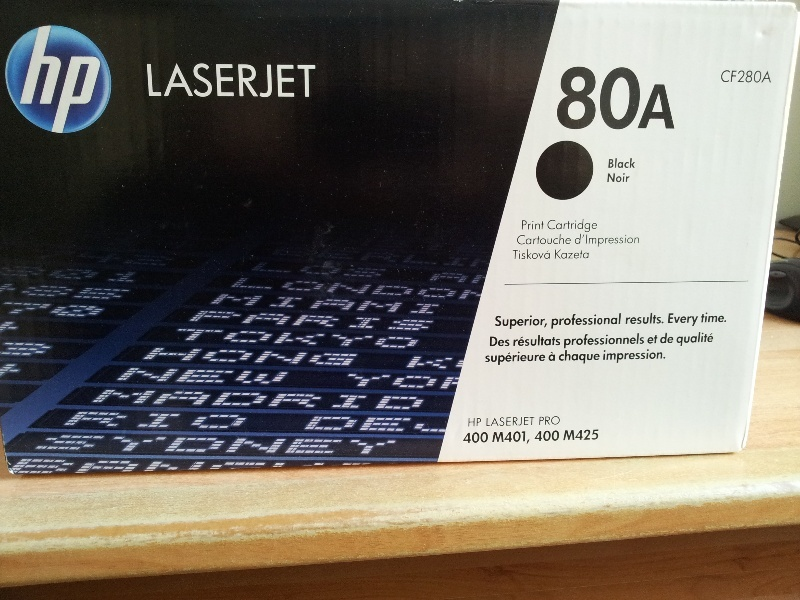text: (49, 25, 64, 135), (65, 25, 80, 135), (81, 25, 96, 135), (97, 25, 110, 135), (38, 25, 48, 135), (577, 65, 592, 130), (593, 65, 608, 130), (609, 65, 624, 130), (625, 65, 640, 130), (641, 65, 656, 130), (657, 65, 672, 130), (563, 65, 576, 130), (161, 63, 176, 98), (177, 63, 192, 98), (193, 63, 208, 98), (209, 63, 224, 98), (225, 63, 240, 98), (241, 63, 256, 98), (257, 63, 272, 98), (273, 63, 288, 98), (289, 63, 304, 98), (146, 63, 160, 98), (385, 432, 401, 462), (65, 432, 80, 462), (81, 432, 96, 462), (97, 432, 112, 462), (113, 432, 128, 462), (129, 432, 144, 462), (145, 432, 160, 462), (161, 432, 176, 462), (177, 432, 192, 462), (193, 432, 208, 462), (209, 432, 224, 462), (225, 432, 240, 462), (241, 432, 256, 462), (257, 432, 272, 462), (273, 432, 288, 462), (289, 432, 304, 462), (305, 432, 320, 462), (321, 432, 336, 462), (337, 432, 352, 462), (353, 432, 368, 462), (369, 432, 384, 462), (305, 63, 317, 98), (289, 242, 304, 269), (305, 242, 320, 269), (321, 242, 336, 269), (337, 242, 352, 269), (353, 242, 368, 269), (369, 242, 384, 269), (385, 242, 400, 269), (401, 242, 416, 269), (417, 242, 432, 269), (433, 242, 448, 269), (449, 242, 464, 269), (113, 388, 128, 415), (129, 388, 144, 415), (145, 388, 160, 415), (161, 388, 176, 415), (177, 388, 192, 415), (193, 388, 208, 415), (209, 388, 224, 415), (225, 388, 240, 415), (241, 388, 256, 415), (257, 388, 272, 415), (273, 388, 288, 415), (289, 388, 304, 415), (305, 388, 320, 415), (321, 388, 336, 415), (337, 388, 352, 415), (353, 388, 368, 415), (369, 388, 384, 415), (385, 388, 400, 415), (401, 388, 416, 415), (257, 275, 272, 300), (273, 275, 288, 300), (289, 275, 304, 300), (305, 275, 320, 300), (321, 275, 336, 300), (337, 275, 352, 300), (353, 275, 368, 300), (369, 275, 384, 300), (385, 275, 400, 300), (401, 275, 416, 300), (417, 275, 432, 300), (433, 275, 448, 300), (225, 292, 240, 316), (241, 292, 256, 316), (257, 292, 272, 316), (273, 292, 288, 316), (289, 292, 304, 316), (305, 292, 320, 316), (321, 292, 336, 316), (337, 292, 352, 316), (353, 292, 368, 316), (369, 292, 384, 316), (385, 292, 400, 316), (401, 292, 416, 316), (417, 292, 432, 316), (209, 309, 224, 333), (225, 309, 240, 333), (241, 309, 256, 333), (257, 309, 272, 333), (273, 309, 288, 333), (289, 309, 304, 333), (305, 309, 320, 333), (321, 309, 336, 333), (337, 309, 352, 333), (353, 309, 368, 333), (369, 309, 384, 333), (385, 309, 400, 333), (401, 309, 416, 333), (417, 309, 432, 333), (193, 327, 208, 351), (209, 327, 224, 351), (225, 327, 240, 351), (241, 327, 256, 351), (257, 327, 272, 351), (273, 327, 288, 351), (289, 327, 304, 351), (305, 327, 320, 351), (321, 327, 336, 351), (337, 327, 352, 351), (353, 327, 368, 351), (369, 327, 384, 351), (385, 327, 400, 351), (401, 327, 416, 351), (65, 264, 80, 287), (81, 264, 96, 287), (97, 264, 112, 287), (113, 264, 128, 287), (161, 346, 176, 368), (177, 346, 192, 368), (193, 346, 208, 368), (209, 346, 224, 368), (225, 346, 240, 368), (241, 346, 256, 368), (257, 346, 272, 368), (273, 346, 288, 368), (289, 346, 304, 368), (305, 346, 320, 368), (321, 346, 336, 368), (337, 346, 352, 368), (145, 366, 160, 388), (161, 366, 176, 388), (177, 366, 192, 388), (193, 366, 208, 388), (209, 366, 224, 388), (225, 366, 240, 388), (241, 366, 256, 388), (257, 366, 272, 388), (273, 366, 288, 388), (53, 432, 64, 462), (97, 457, 112, 479), (113, 457, 128, 479), (129, 457, 144, 479), (145, 457, 160, 479), (161, 457, 176, 479), (177, 457, 192, 479), (193, 457, 208, 479), (209, 457, 224, 479), (225, 457, 240, 479), (465, 242, 477, 269), (97, 410, 112, 431), (113, 410, 128, 431), (129, 410, 144, 431), (145, 410, 160, 431), (161, 410, 176, 431), (177, 410, 192, 431), (193, 410, 208, 431), (209, 410, 224, 431), (225, 410, 240, 431), (130, 366, 144, 388), (244, 275, 256, 300), (82, 410, 96, 431), (180, 327, 192, 351), (417, 355, 432, 374), (433, 355, 448, 374), (33, 283, 48, 302), (49, 283, 64, 302), (65, 283, 80, 302), (81, 283, 96, 302), (97, 283, 112, 302), (113, 283, 128, 302), (129, 264, 141, 287), (33, 458, 48, 476), (49, 458, 64, 476), (353, 372, 368, 390), (369, 372, 384, 390), (385, 372, 400, 390), (401, 372, 416, 390), (417, 372, 432, 390), (321, 415, 336, 433), (337, 415, 352, 433), (353, 415, 368, 433), (369, 415, 384, 433), (385, 415, 400, 433), (401, 415, 416, 433), (17, 301, 32, 319), (33, 301, 48, 319), (49, 301, 64, 319), (65, 301, 80, 319), (81, 301, 96, 319), (433, 292, 444, 316), (561, 313, 576, 330), (577, 313, 592, 330), (593, 313, 608, 330), (273, 262, 288, 279), (289, 262, 304, 279), (305, 262, 320, 279), (321, 262, 336, 279), (337, 262, 352, 279), (353, 262, 368, 279), (369, 262, 384, 279), (449, 275, 459, 300), (417, 388, 426, 415), (241, 457, 252, 479), (577, 233, 592, 249), (593, 233, 608, 249), (609, 233, 624, 249), (625, 233, 640, 249), (497, 314, 512, 330), (513, 314, 528, 330), (529, 314, 544, 330), (577, 333, 592, 349), (593, 333, 608, 349), (609, 333, 624, 349), (625, 333, 640, 349), (17, 341, 32, 357), (33, 341, 48, 357), (65, 458, 78, 476), (561, 218, 576, 233), (577, 218, 592, 233), (689, 332, 704, 347), (609, 349, 624, 364), (625, 349, 640, 364), (641, 349, 656, 364), (497, 351, 512, 366), (513, 351, 528, 366), (529, 351, 544, 366), (609, 313, 622, 330), (280, 242, 288, 269), (20, 458, 32, 476), (737, 70, 752, 84), (753, 70, 768, 84), (673, 313, 688, 327), (561, 350, 576, 364), (577, 350, 592, 364), (241, 410, 251, 431), (545, 334, 561, 347), (55, 264, 64, 287), (5, 301, 16, 319), (87, 457, 96, 479), (529, 334, 544, 347), (497, 431, 512, 444), (513, 431, 528, 444), (449, 272, 464, 285), (723, 70, 736, 84), (514, 334, 528, 347), (609, 158, 624, 170), (609, 172, 624, 184), (548, 218, 560, 233), (641, 313, 656, 325), (705, 312, 720, 324), (465, 432, 480, 444), (545, 430, 560, 442), (577, 429, 592, 441), (97, 301, 107, 319), (465, 289, 480, 301), (529, 220, 545, 231), (565, 333, 576, 349), (5, 341, 16, 357), (449, 376, 460, 392), (626, 313, 640, 325), (529, 234, 544, 245), (545, 234, 560, 245), (513, 249, 528, 260), (529, 249, 544, 260), (561, 249, 576, 260), (677, 332, 688, 347), (433, 372, 442, 390), (545, 416, 561, 426), (49, 341, 59, 357), (353, 346, 360, 368), (263, 262, 272, 279), (497, 417, 512, 427), (513, 417, 528, 427), (486, 351, 496, 366), (625, 158, 637, 170), (202, 309, 208, 333), (417, 327, 423, 351), (577, 249, 590, 260), (497, 336, 510, 347), (689, 313, 699, 327), (552, 313, 560, 330), (705, 332, 714, 347), (657, 349, 666, 364), (107, 388, 112, 415), (661, 332, 672, 344), (565, 429, 576, 441), (289, 366, 295, 388), (673, 65, 675, 130), (517, 234, 528, 245), (561, 234, 572, 245), (549, 351, 560, 362), (439, 272, 448, 285), (468, 418, 480, 427), (535, 430, 544, 442), (314, 415, 320, 433), (593, 350, 600, 364), (657, 313, 665, 325), (449, 355, 454, 374), (465, 272, 472, 285), (481, 274, 488, 287), (487, 417, 496, 427), (481, 432, 488, 444), (641, 333, 646, 349), (28, 283, 32, 302), (129, 283, 133, 302), (593, 218, 598, 233), (603, 349, 608, 364), (721, 312, 727, 324), (648, 335, 656, 344), (593, 429, 599, 441), (522, 220, 528, 231), (545, 249, 551, 260), (490, 336, 496, 347), (529, 417, 535, 427), (625, 172, 630, 184), (555, 249, 560, 260), (385, 262, 388, 279), (539, 416, 544, 426), (545, 314, 548, 330), (433, 309, 435, 333), (769, 70, 772, 84), (669, 313, 672, 327), (493, 431, 496, 444), (477, 274, 480, 287), (481, 289, 484, 301), (702, 312, 704, 324), (159, 346, 160, 368), (657, 335, 659, 344), (351, 372, 352, 390), (575, 233, 576, 249), (545, 351, 546, 366), (559, 350, 560, 364), (529, 431, 530, 444), (673, 332, 674, 344), (481, 418, 482, 427)
